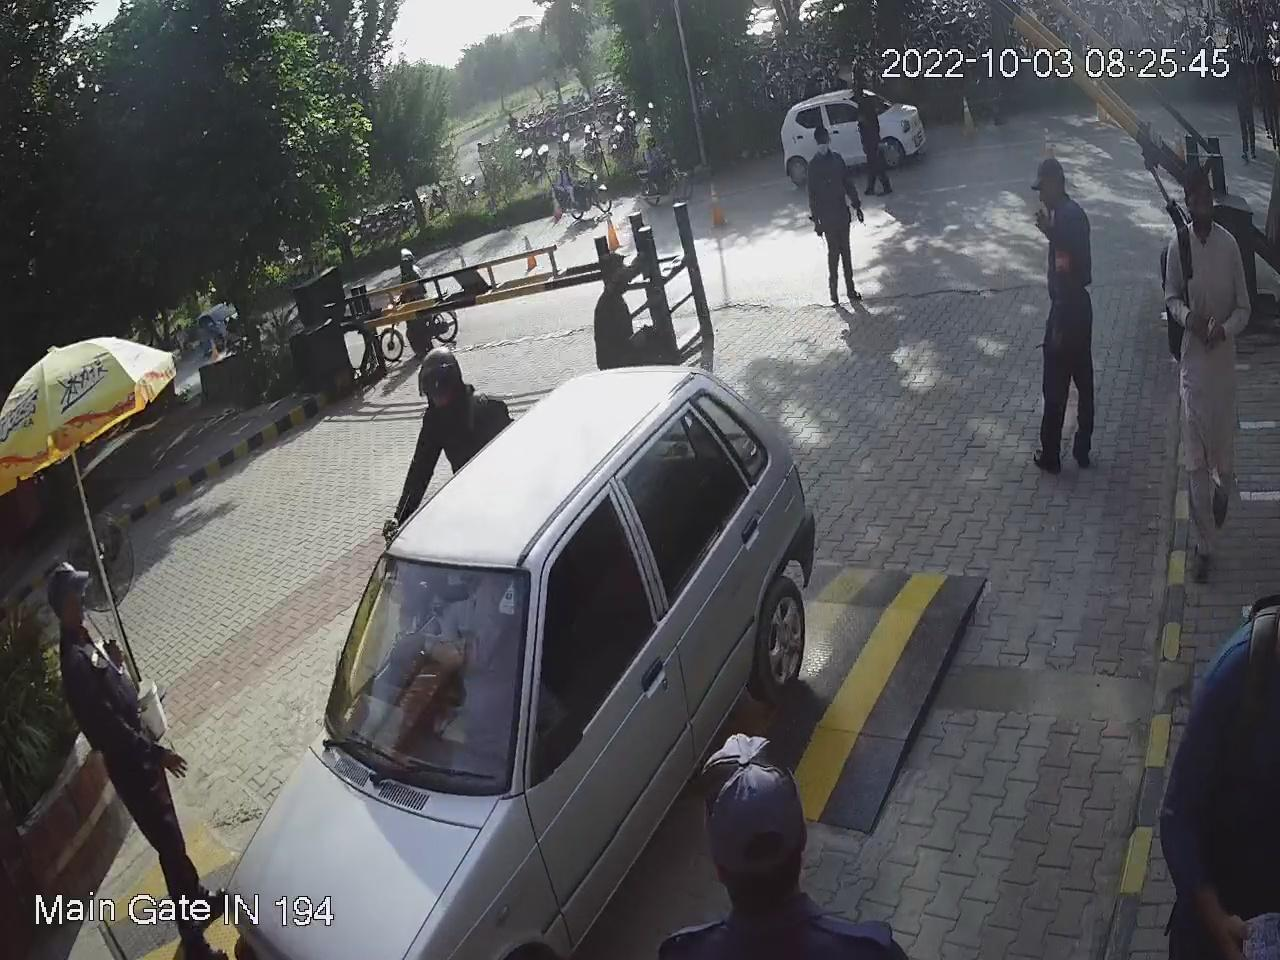windshield: (313, 548, 540, 810)
